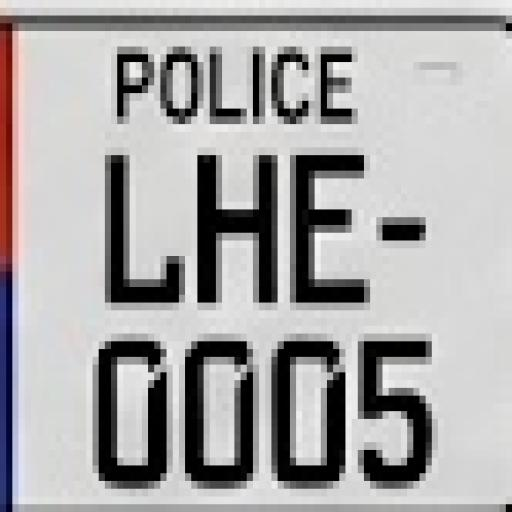0: (182, 333, 262, 493), (269, 338, 351, 492), (95, 340, 169, 482)
5: (352, 332, 444, 494)
E: (286, 145, 376, 304)
H: (197, 139, 281, 312)
L: (97, 145, 187, 316)
